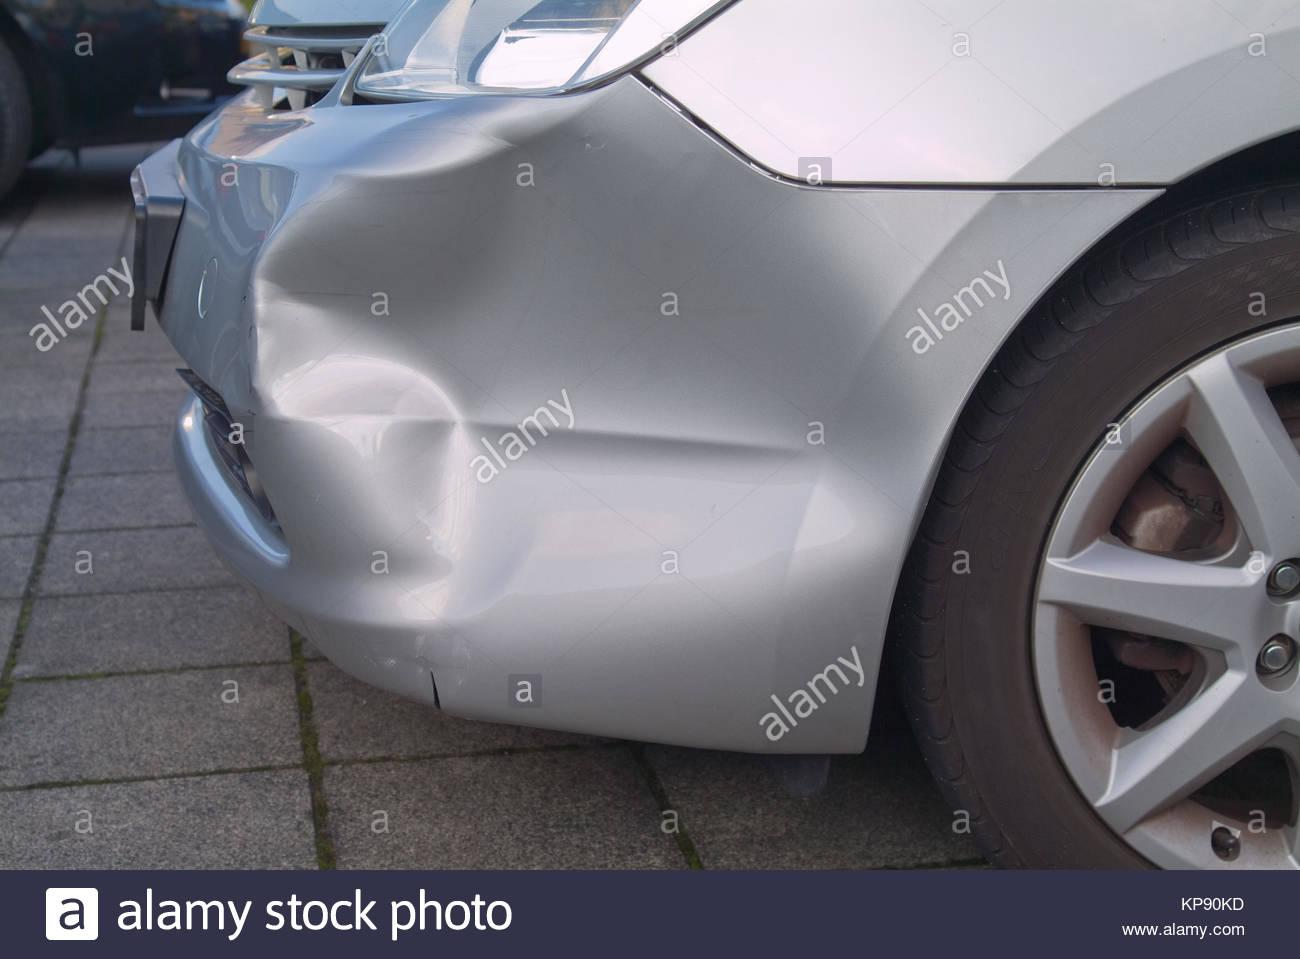front-bumper-dent: (137, 75, 920, 740)
